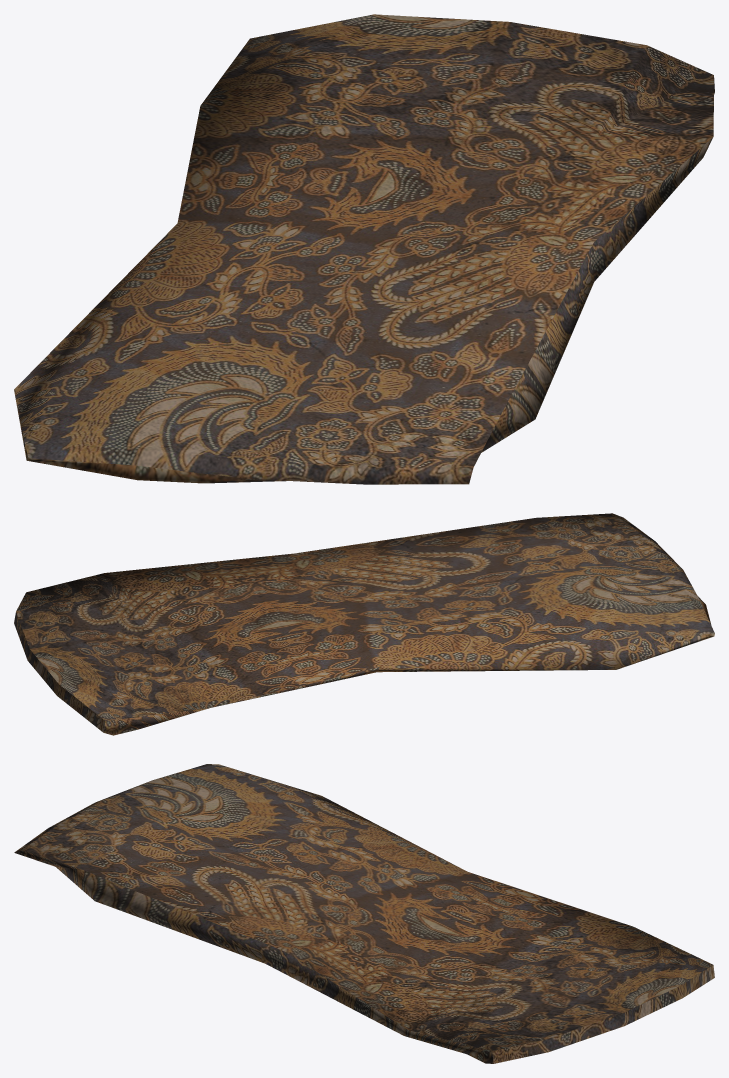
File: KainBatik2.fbx
3 renders of one model, top to bottom at view 1: azimuth 30°, elevation 25°; view 2: azimuth 150°, elevation 25°; view 3: azimuth 270°, elevation 25°, orthographic. The views are drawn at different scales.
Visible parts, largest first — view 1: Plane009; view 2: Plane009; view 3: Plane009.
Part boxes in pixels (<box>): Plane009: <box>14,14,714,484</box>; Plane009: <box>14,513,714,735</box>; Plane009: <box>14,764,714,1063</box>.
Size of the model in its own units: 15.99 by 1.04 by 16.27.
